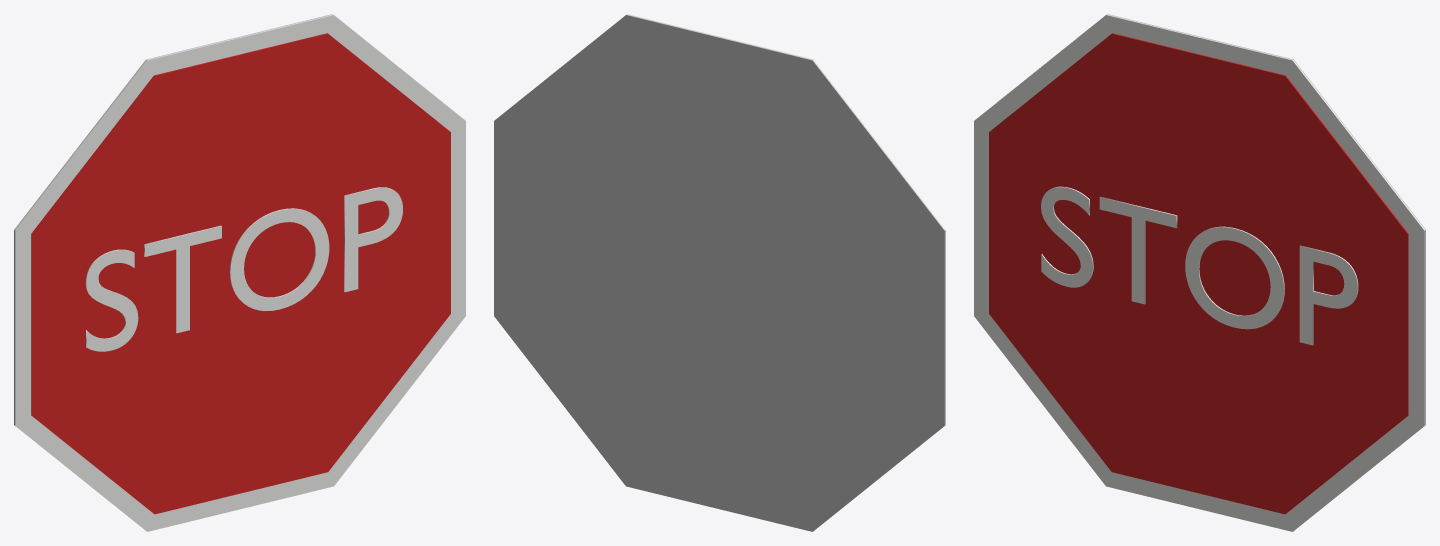
3 renders of one model, left to right at view 1: azimuth 30°, elevation 25°; view 2: azimuth 150°, elevation 25°; view 3: azimuth 330°, elevation 25°, orthographic.
Visible parts, largest first — view 1: AB4_fond, AB4_bord, AB4_picto0, AB4_dos; view 2: AB4_dos, AB4_bord; view 3: AB4_fond, AB4_bord, AB4_picto0, AB4_dos.
Boxes of the visible parts, left/top/right/bottom form: AB4_fond: left=31, top=33, right=450, bottom=514; AB4_bord: left=14, top=14, right=465, bottom=531; AB4_picto0: left=85, top=187, right=402, bottom=351; AB4_dos: left=14, top=14, right=332, bottom=425; AB4_dos: left=494, top=14, right=944, bottom=531; AB4_bord: left=627, top=14, right=945, bottom=425; AB4_fond: left=989, top=33, right=1408, bottom=514; AB4_bord: left=974, top=14, right=1425, bottom=531; AB4_picto0: left=1041, top=186, right=1358, bottom=345; AB4_dos: left=1107, top=14, right=1425, bottom=425.
Bounding box in the file's own units: 0.65 × 0.65 × 0.0083.
